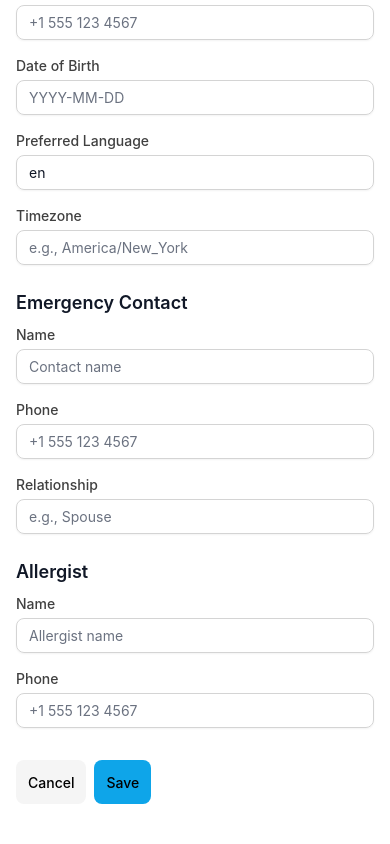
Test: Profile screens › EditProfileScreen validates and blocks empty name on save
This screenshot has width=390, height=844.
(page scrolled)
// Attempt to save without name
Click the button "Save".
click(123, 782)  # box [94,760,151,804]
(page scrolled)
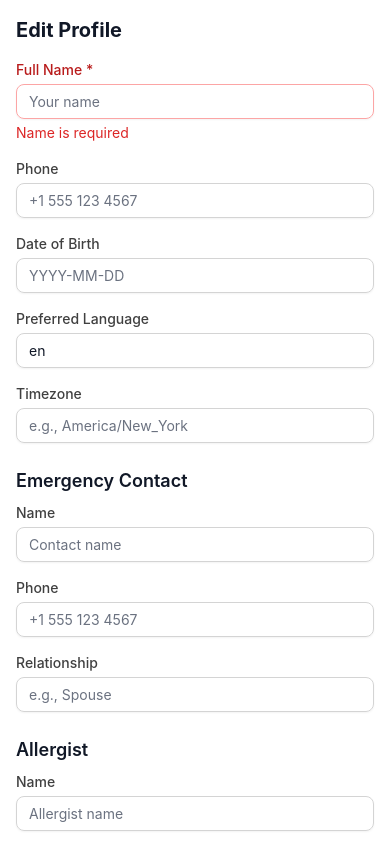
Check: the text "Name is required" is shown, box [16,124,129,141]
